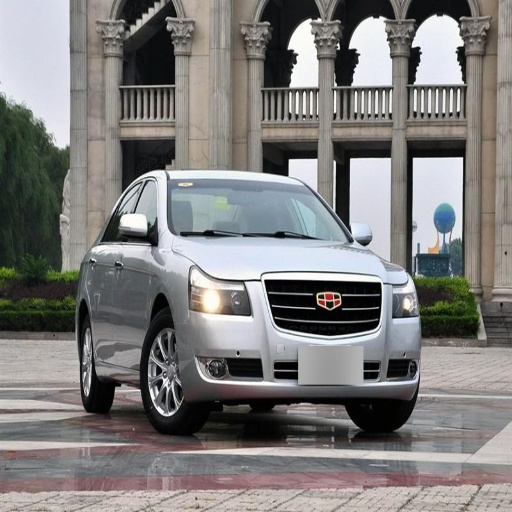front_bumper: (176, 273, 420, 399)
front_right_door: (106, 176, 161, 349)
front_right_light: (190, 268, 251, 314)
hood: (176, 237, 405, 280)
